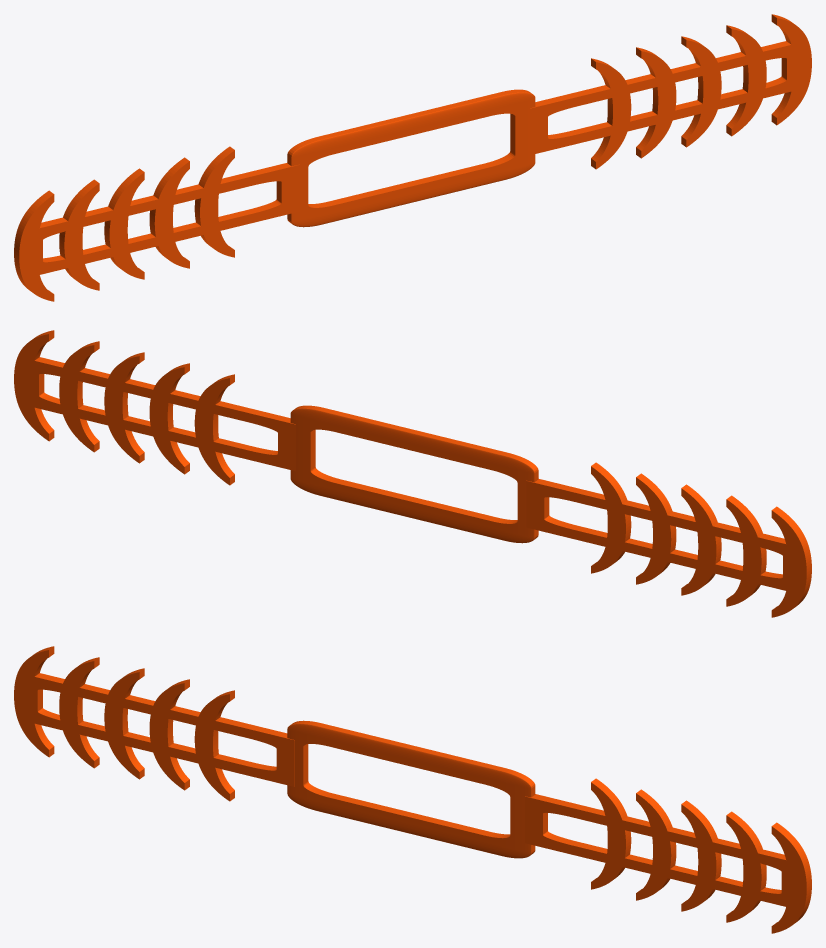
File: tinker.obj
3 renders of one model, top to bottom at view 1: azimuth 30°, elevation 25°; view 2: azimuth 150°, elevation 25°; view 3: azimuth 330°, elevation 25°, orthographic.
Parts seen in each view (by area): view 1: obj_0; view 2: obj_0; view 3: obj_0.
Boxes of the visible parts, box(x1,y1,x2,y2) form: obj_0: box(14, 14, 811, 301); obj_0: box(14, 330, 811, 617); obj_0: box(14, 646, 811, 933).
Bounding box in the file's own units: 175 × 22.68 × 2.
